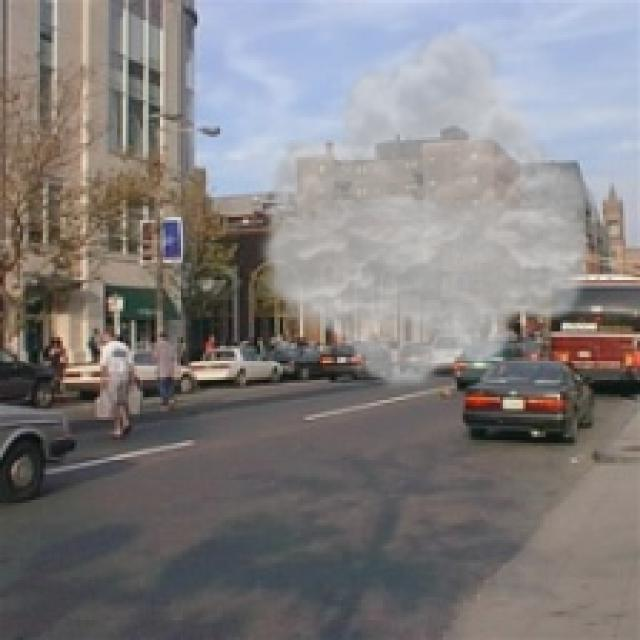smoke: (251, 23, 603, 391)
